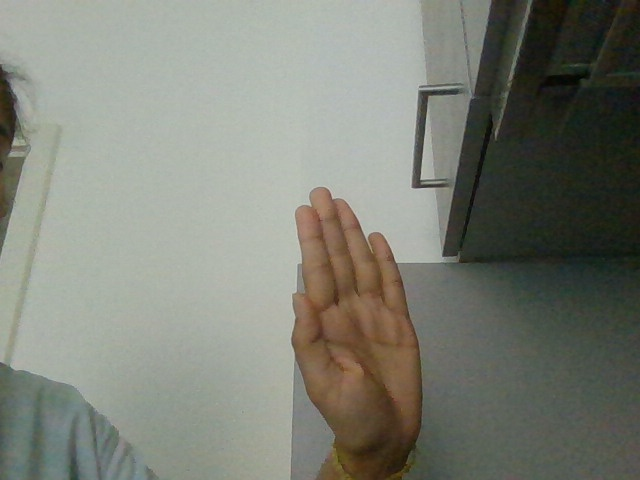Palm: (271, 186, 436, 456)
